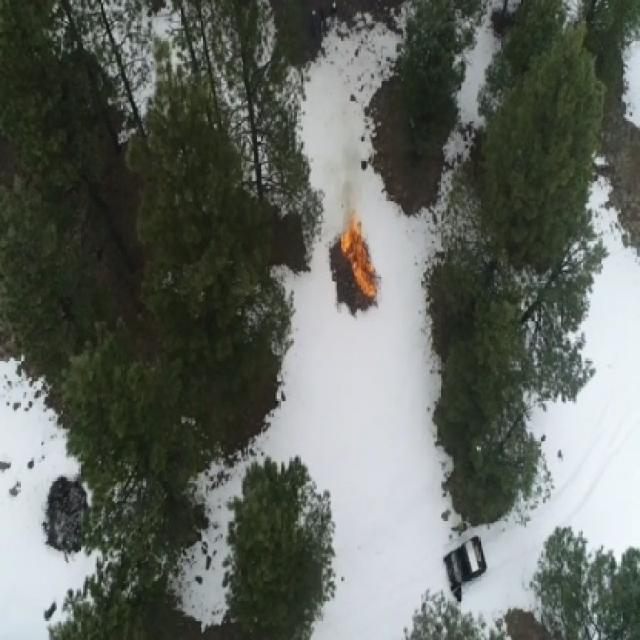Fire: (337, 208, 380, 300)
